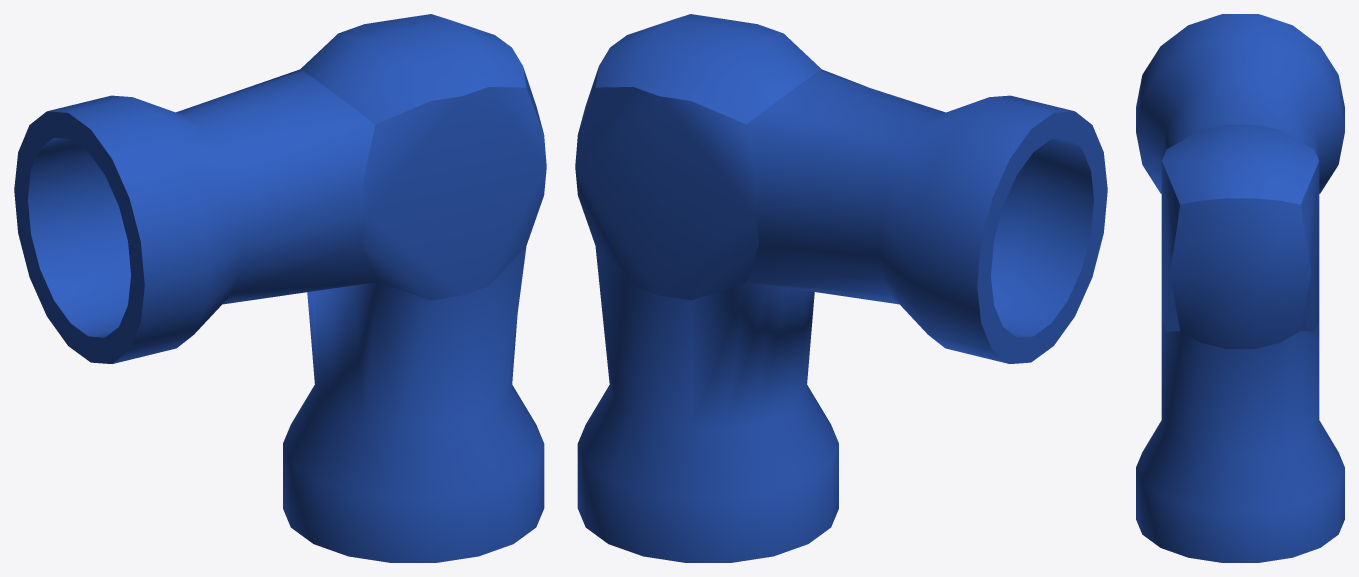
The model's file is Lpipie.fbx.
3 renders of one model, left to right at view 1: azimuth 30°, elevation 25°; view 2: azimuth 150°, elevation 25°; view 3: azimuth 270°, elevation 25°, orthographic. The views are drawn at different scales.
Visible parts, largest first — view 1: Tube004; view 2: Tube004; view 3: Tube004.
Part boxes in pixels (left/top/right/bottom): Tube004: left=14, top=14, right=546, bottom=562; Tube004: left=575, top=14, right=1107, bottom=562; Tube004: left=1136, top=14, right=1344, bottom=562.
Size of the model in its own units: 47.39 by 47.94 by 24.07.
